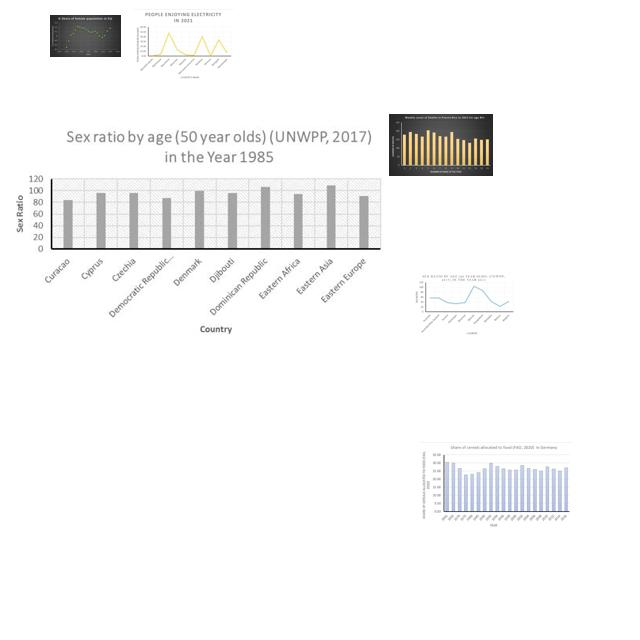Graph: (4, 120, 386, 336), (420, 442, 573, 530), (133, 9, 234, 82), (389, 114, 493, 176), (413, 274, 515, 335), (50, 15, 121, 57)
